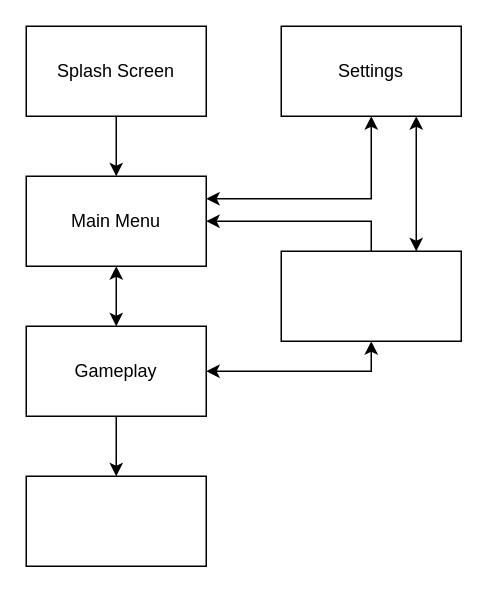
This 488x593 diagram has some shape labels left out. Here are the shapes that lost their labels. From the top down, the centre of each, then its label:
(x=370, y=295): Pause
(x=115, y=520): End Screen
